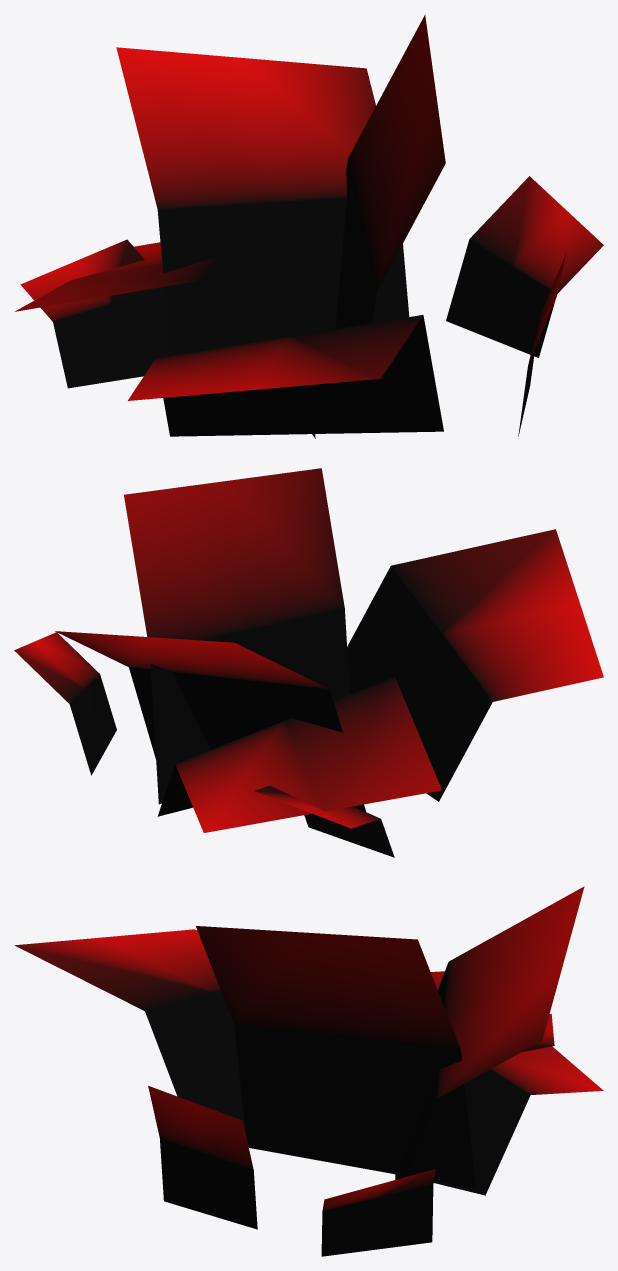
File: grassPatches.FBX
The picture shows the model from 3 angles, top to bottom: view 1: azimuth 30°, elevation 25°; view 2: azimuth 150°, elevation 25°; view 3: azimuth 270°, elevation 25°; orthographic projection. The views are drawn at different scales.
Visible parts, largest first — view 1: grassPatch; view 2: grassPatch; view 3: grassPatch.
Part boxes in pixels (<box>): grassPatch: <box>14,14,603,438</box>; grassPatch: <box>14,468,603,857</box>; grassPatch: <box>14,886,603,1256</box>.
Size of the model in its own units: 424 by 236 by 435.
